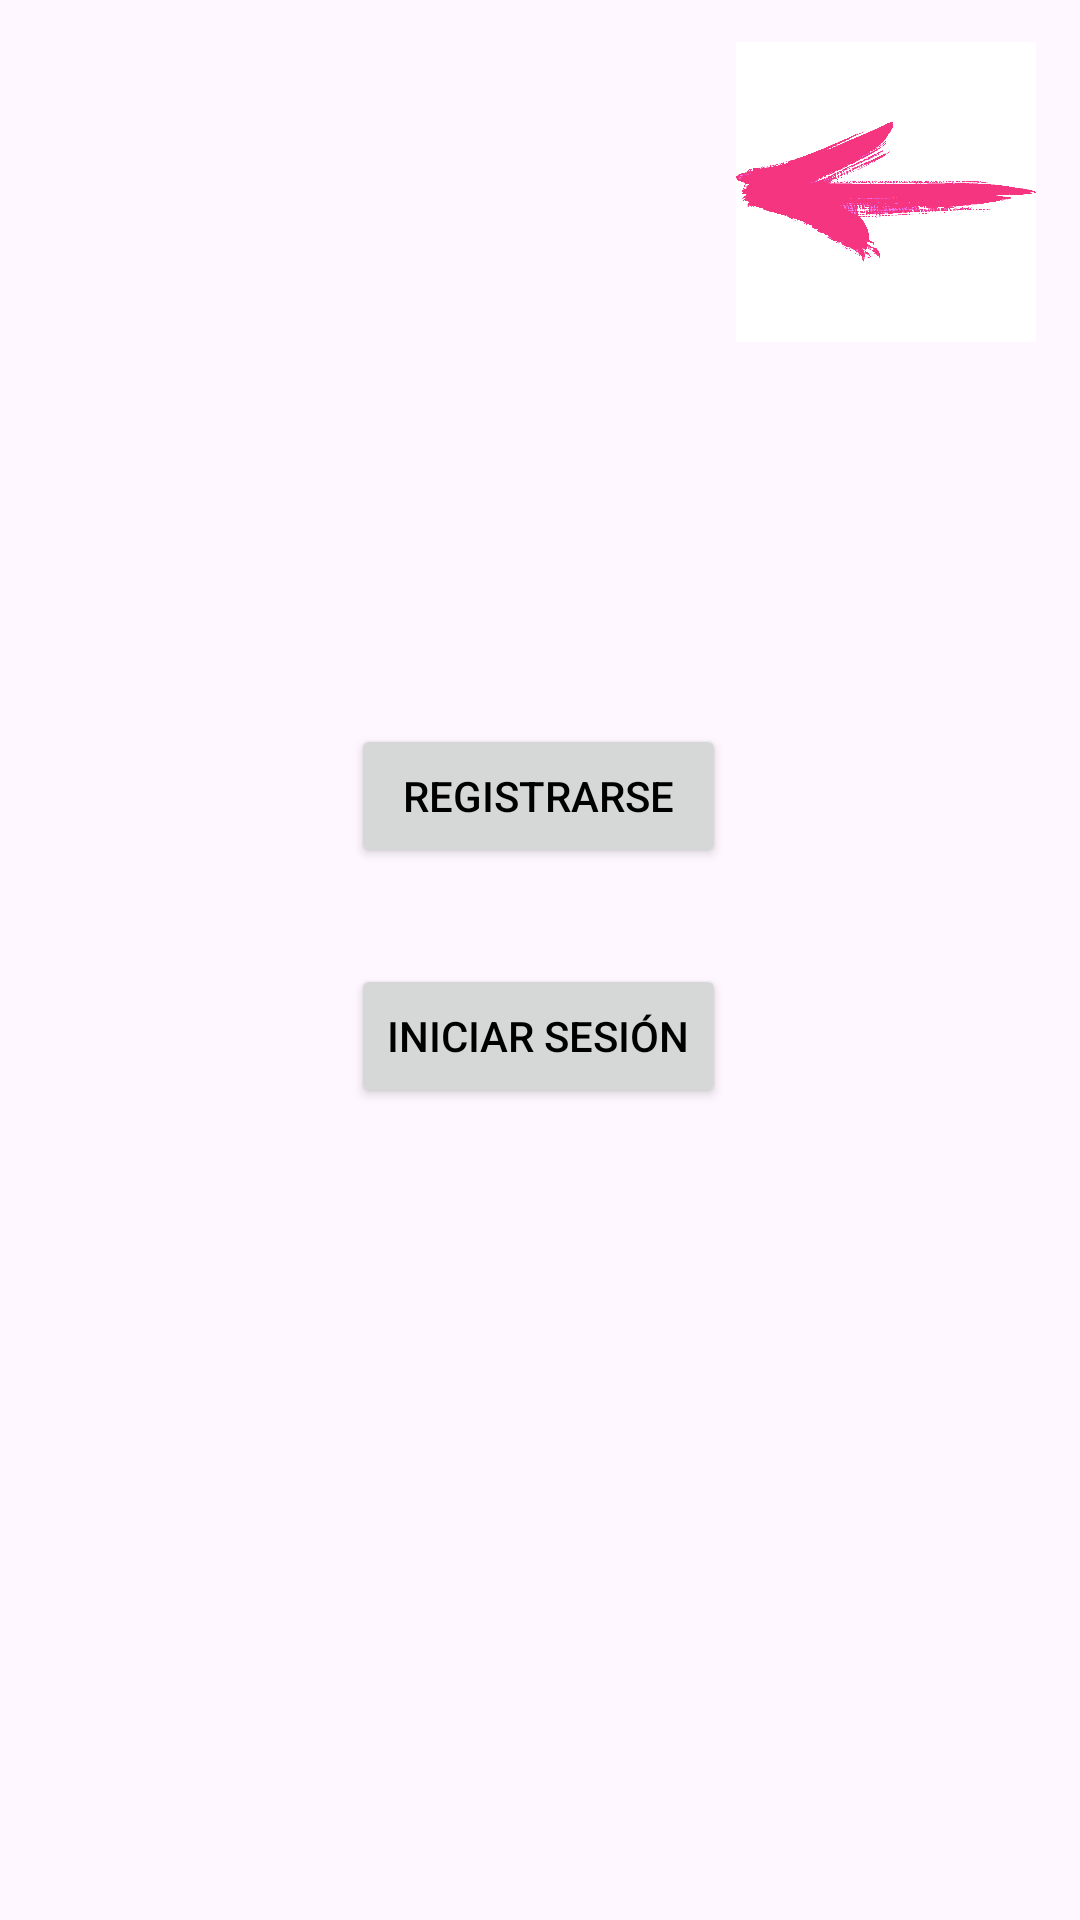

Named icons in this screenshot (1080 × 1920) and their bounding boxes, (x1, y1, x2, y2):
botón de flecha atrás: (736, 122, 1036, 262)
